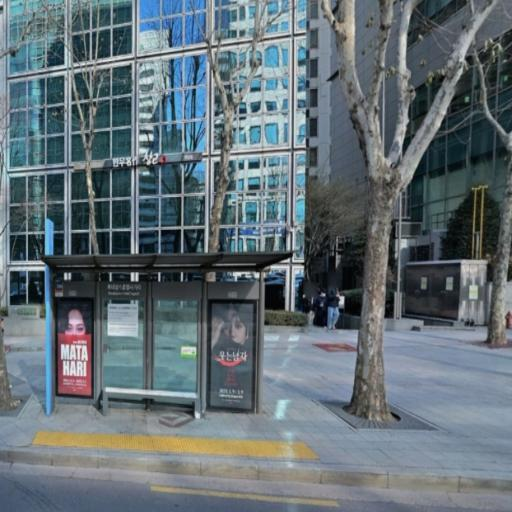bicycle: (41, 252, 292, 417)
